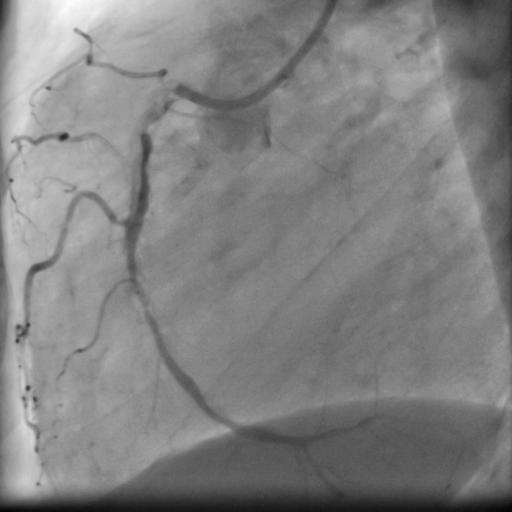Stenosis: (133, 114, 158, 138)
